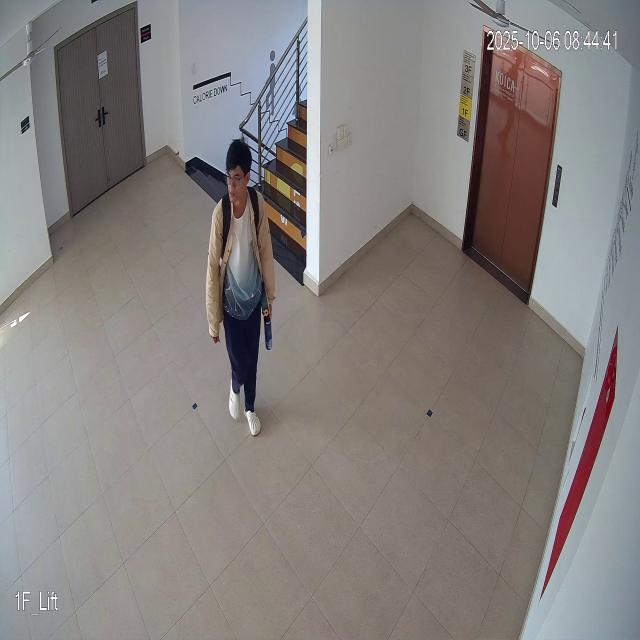face: (224, 140, 257, 211)
